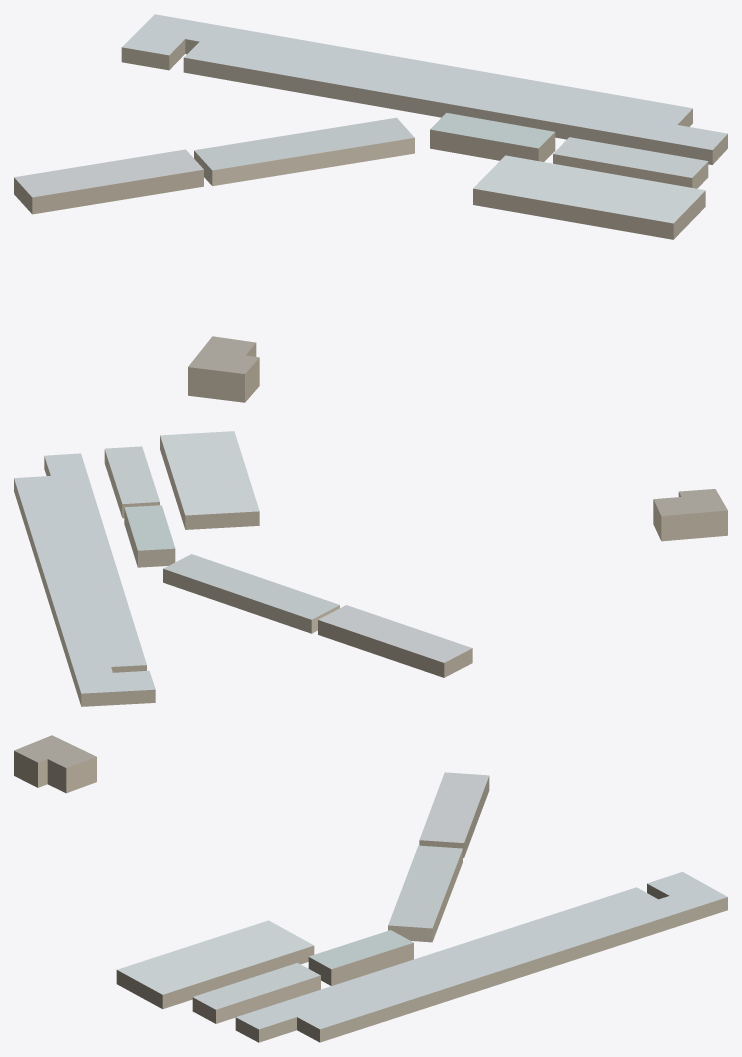
The picture shows the model from 3 angles, top to bottom: view 1: azimuth 30°, elevation 25°; view 2: azimuth 150°, elevation 25°; view 3: azimuth 270°, elevation 25°; orthographic projection. The views are drawn at different scales.
Parts seen in each view (by area): view 1: tuile; view 2: tuile; view 3: tuile.
Part boxes in pixels (box(x1,y1,x2,y2)): tuile: box(14, 14, 727, 402); tuile: box(14, 431, 727, 706); tuile: box(14, 735, 727, 1042).
Size of the model in its own units: 274 by 11.42 by 292.
